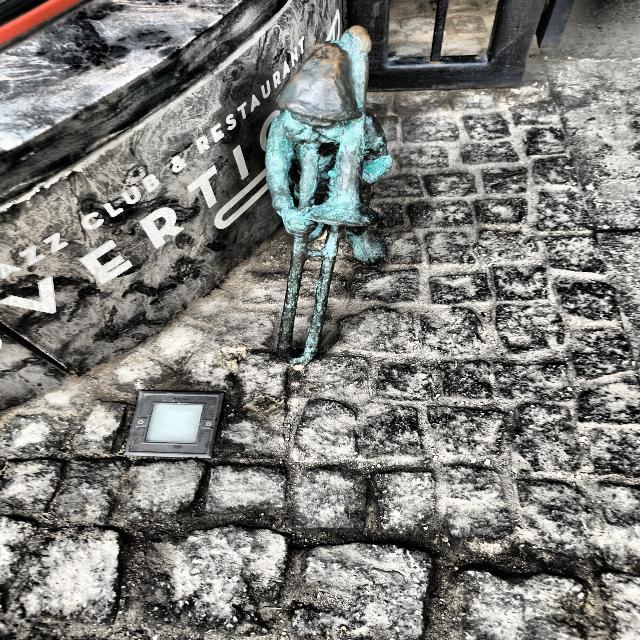Vertigus: (265, 26, 392, 365)
